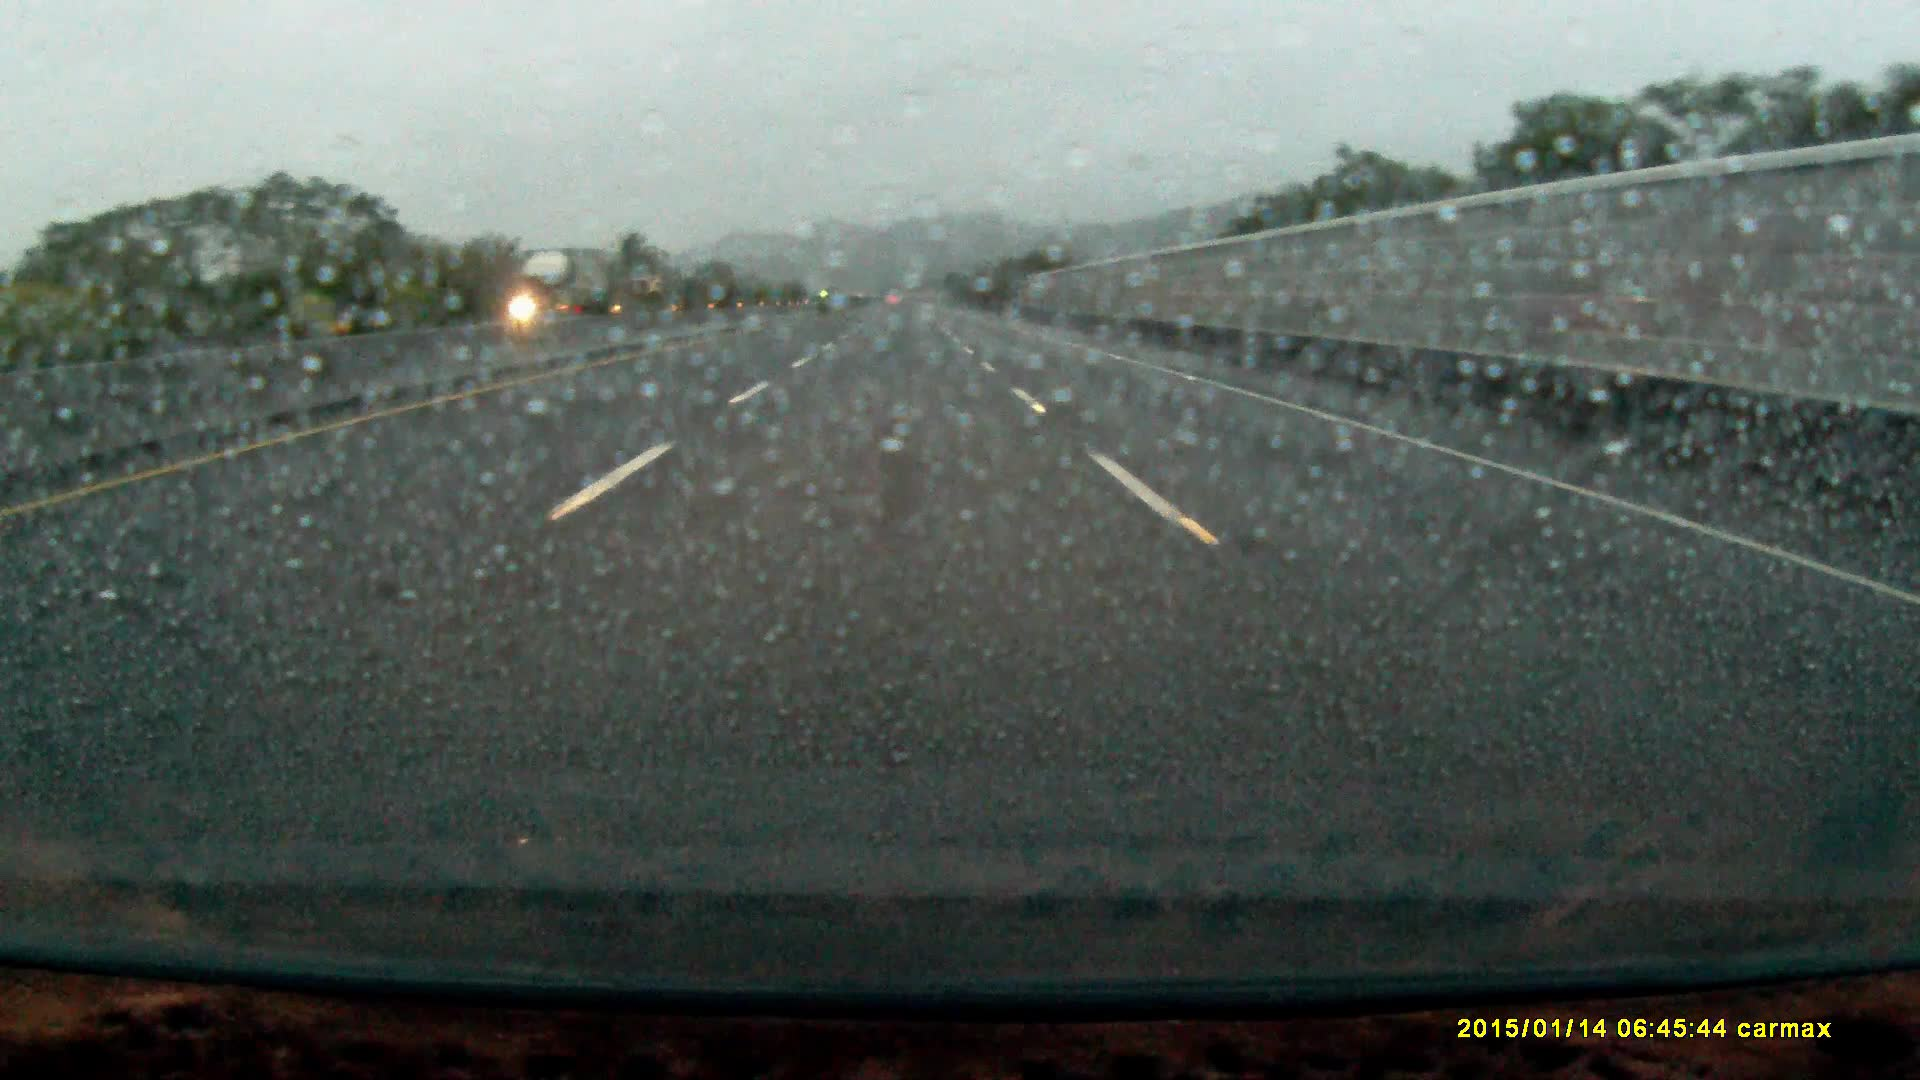vehicle: (508, 249, 616, 318)
